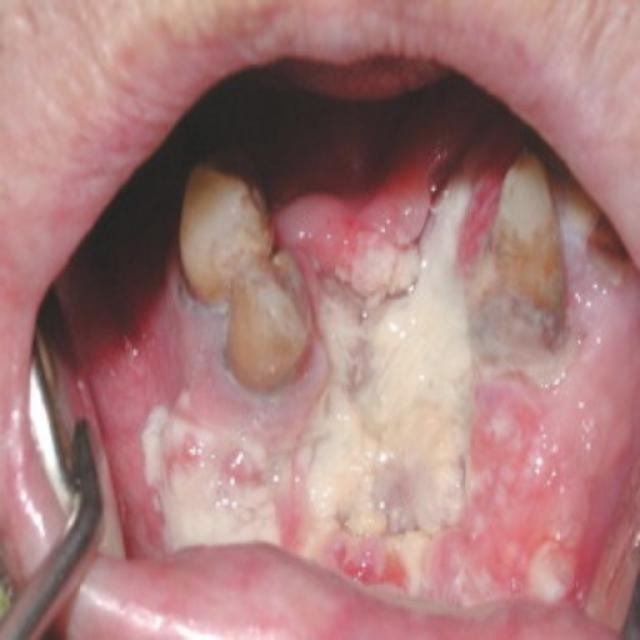cancer-detection: (138, 134, 639, 620)
processing_area: (55, 131, 639, 639)
